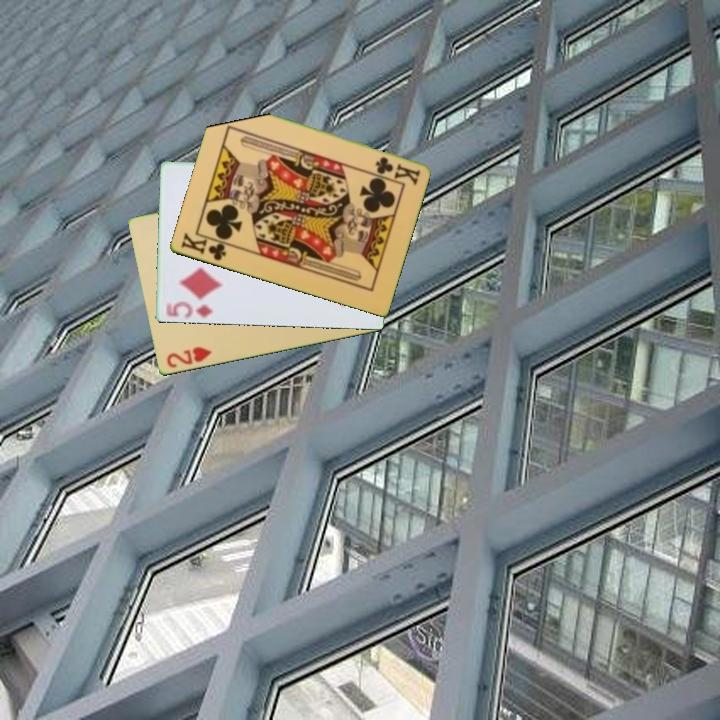2h: (163, 343, 214, 371)
5d: (161, 298, 216, 321)
Kc: (177, 229, 234, 264), (371, 153, 423, 186)
